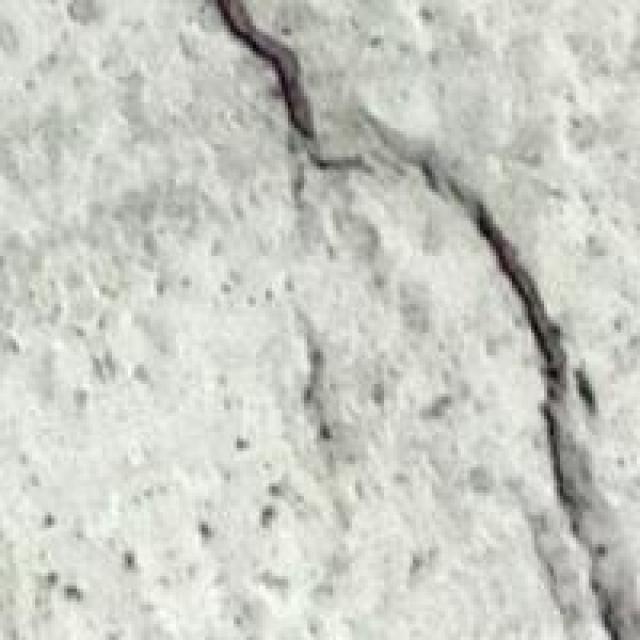crack: (211, 0, 618, 605)
